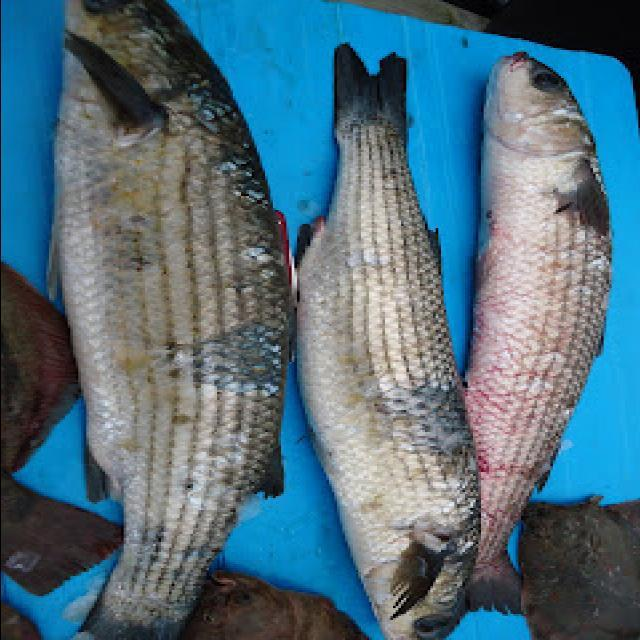EUS Disease: (43, 2, 290, 640), (293, 25, 484, 640), (454, 44, 638, 640)
